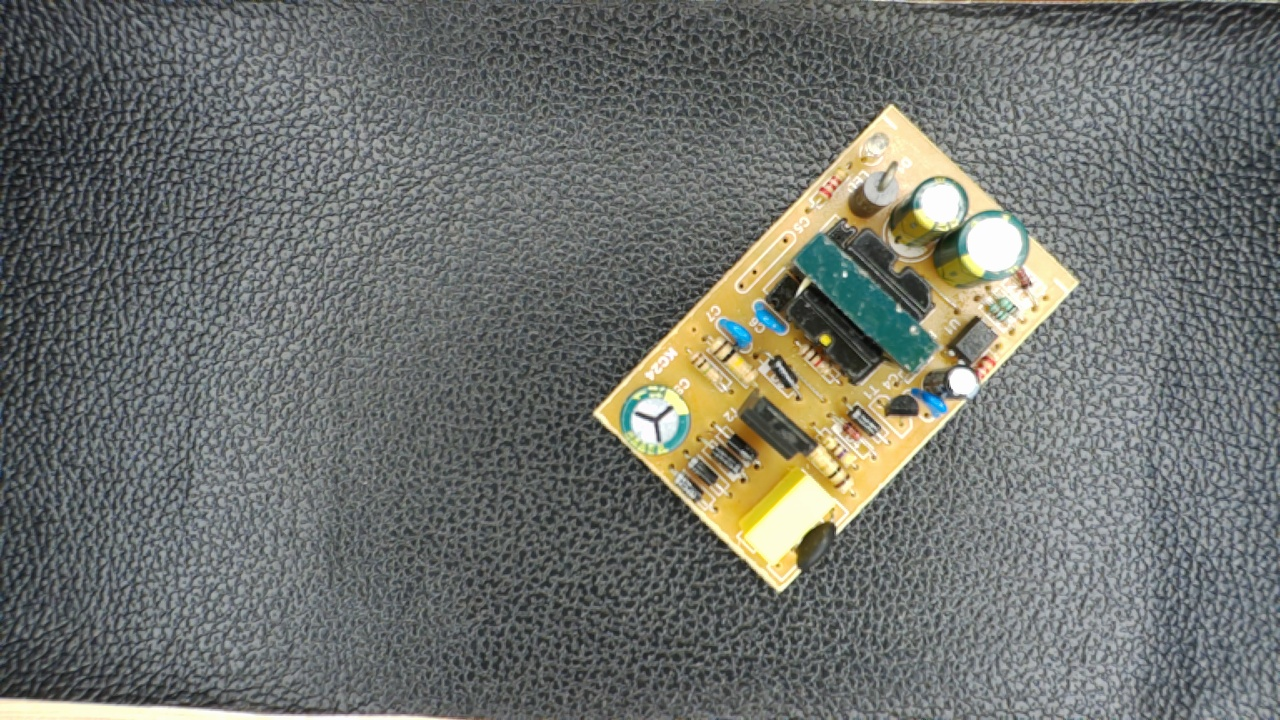fuse: (786, 516, 840, 579)
hv_capacitor: (617, 380, 692, 458)
optocoupler: (947, 311, 1001, 368)
